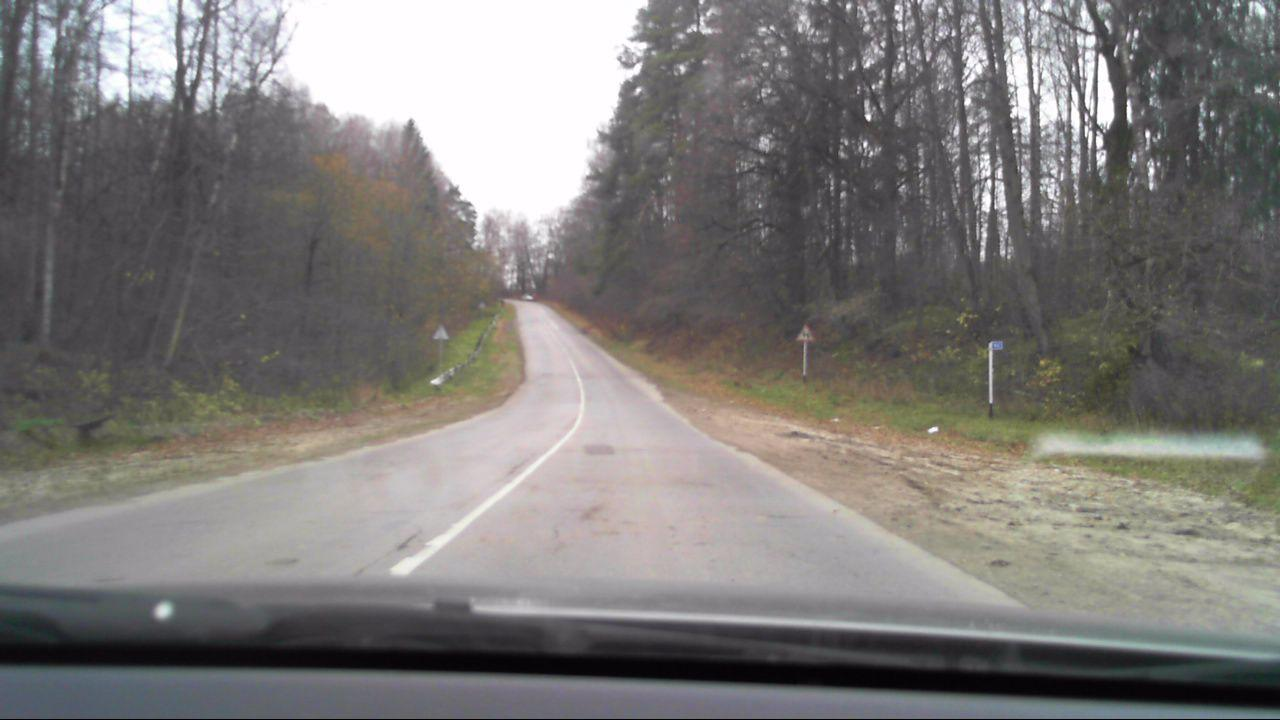1_12_2: (794, 320, 815, 343)
